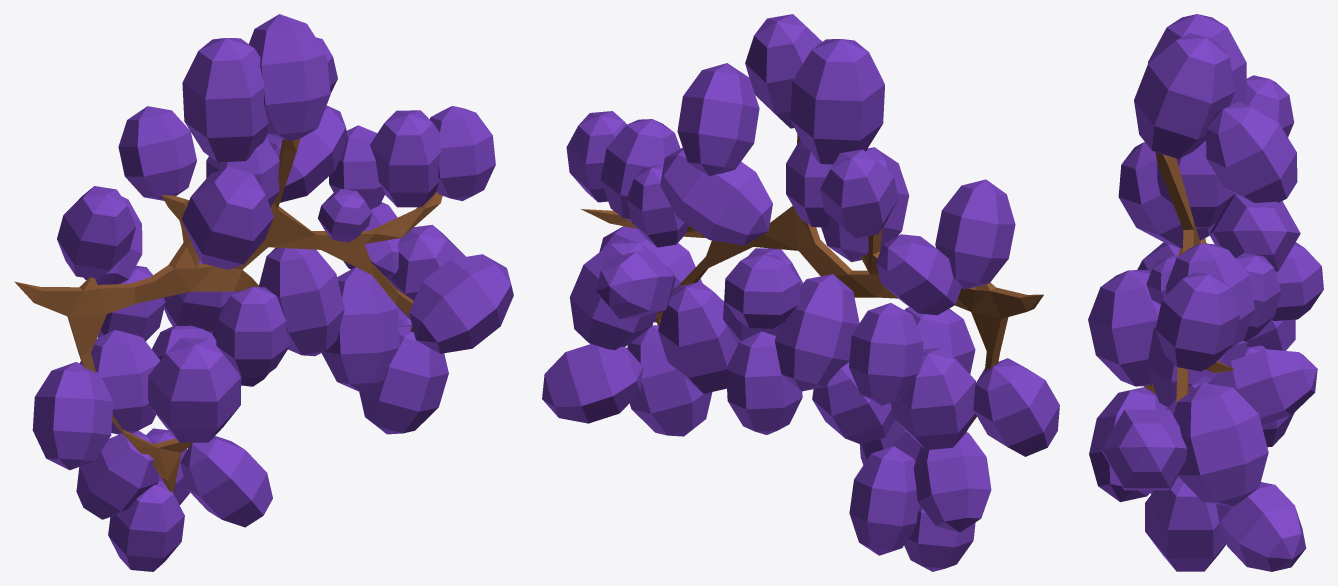
Rendered from Grape_LP_Detailed.fbx.
3 renders of one model, left to right at view 1: azimuth 30°, elevation 25°; view 2: azimuth 150°, elevation 25°; view 3: azimuth 270°, elevation 25°, orthographic. The views are drawn at different scales.
Parts seen in each view (by area): view 1: Sphere.023; view 2: Sphere.023; view 3: Sphere.023.
Part boxes in pixels (x1,y1,x2,y2): Sphere.023: [14, 14, 513, 571]; Sphere.023: [542, 14, 1059, 571]; Sphere.023: [1088, 14, 1323, 571].
Bounding box in the file's own units: 1382 × 1453 × 562.
